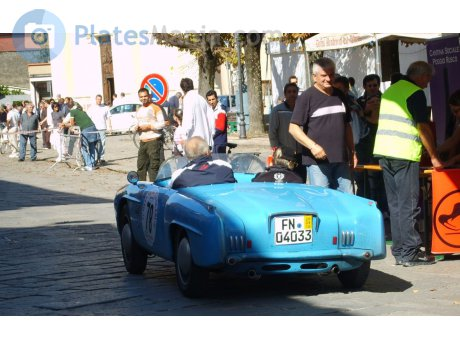License Plates: (278, 220, 309, 236)
